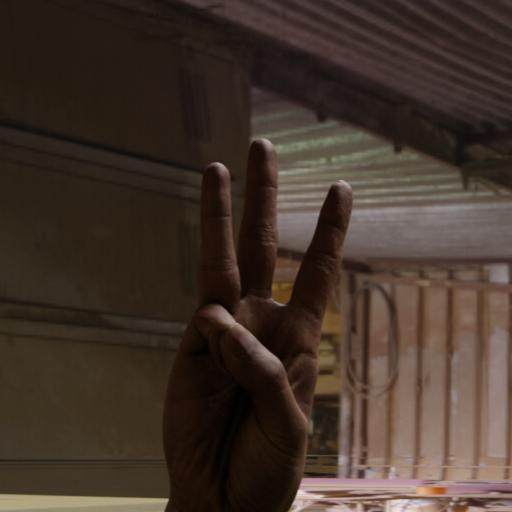W: (159, 133, 357, 509)
